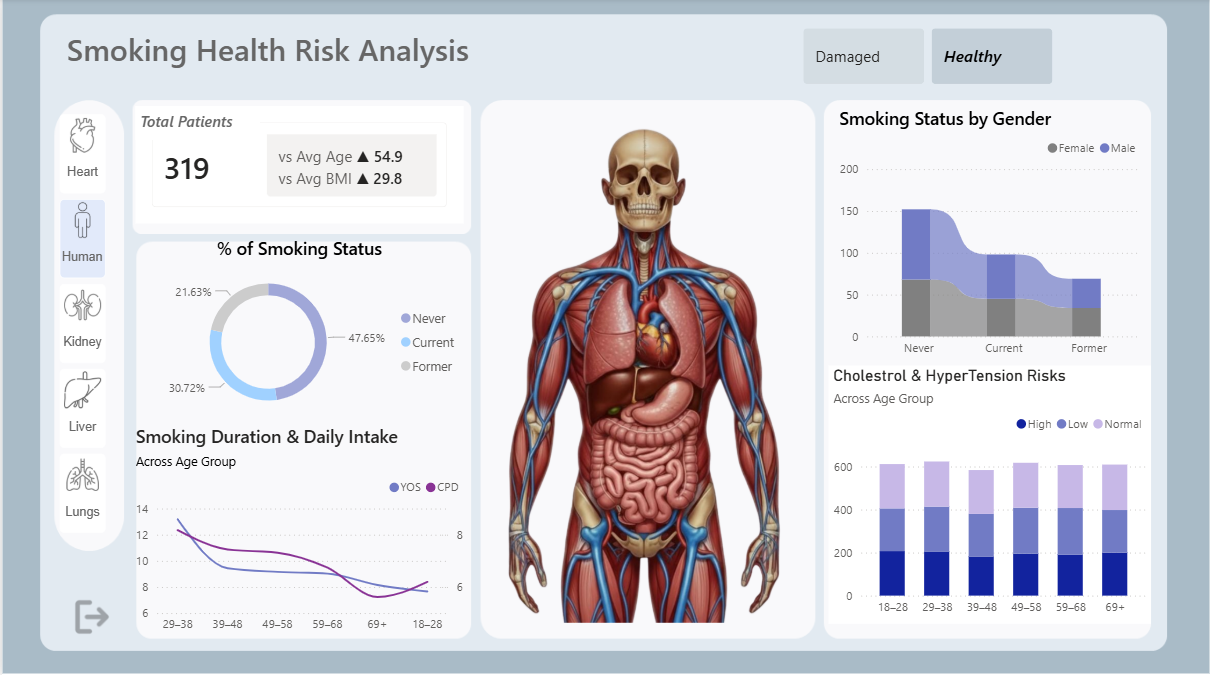

What the dashboard file says about the page in this screenshot:
{"tool":"powerbi","page":{"name":"Page 1","canvas":[1280,720],"ordinal":0},"visuals":[{"type":"cardVisual","fields":{"Data":["CountNonNull(health_dataset.Patient_ID)"]},"box":[141.7,115.3,347.7,124.7],"z":0},{"type":"textbox","box":[141.7,115.3,132.3,35.9],"z":1000},{"type":"advancedSlicerVisual","fields":{"Values":["condition.Organ_Condition"]},"box":[844.7,26.5,275.9,69.9],"z":2000},{"type":"ChicletSlicer1448559807354","fields":{"Category":["Organs.Organ"],"Image":["Organs.Icon_URL"]},"box":[52.9,115.3,88.8,480],"z":3000},{"type":"image","box":[517.8,115.3,326.9,548],"z":4000},{"type":"donutChart","title":"% of Smoking Status","fields":{"Category":["health_dataset.Smoking_Status"],"Y":["CountNonNull(health_dataset.Smoking_Status)"]},"box":[136.1,253.2,357.2,198.4],"z":5000},{"type":"lineChart","title":"Smoking Duration & Daily Intake","fields":{"Category":["health_dataset.Age Group"],"Y":["Avg(health_dataset.Years_of_Smoking)"],"Y2":["Avg(health_dataset.Cigarettes_Per_Day)"]},"box":[136.1,451.7,357.2,230.6],"z":6000},{"type":"ribbonChart","title":"Smoking Status by Gender","fields":{"Category":["health_dataset.Smoking_Status"],"Y":["CountNonNull(health_dataset.Patient_ID)"],"Series":["health_dataset.Gender"]},"box":[882.5,115.3,328.8,274],"z":7000},{"type":"columnChart","title":"Cholestrol & HyperTension Risks","fields":{"Category":["health_dataset.Age Group"],"Y":["Avg(health_dataset.Cholesterol_Level)"],"Series":["health_dataset.BP_Risk"]},"box":[876.9,389.3,342,274],"z":8000},{"type":"textbox","box":[64.3,26.5,500.8,69.9],"z":8001}]}

Visuals, with their boxes in screenshot pixels (x1, y1, x2, y2), scaled from the page's 1280x720 canvas onto the 1210x675 screenshot:
cardVisual - CountNonNull(health_dataset.Patient_ID): x1=134 y1=108 x2=463 y2=225
textbox: x1=134 y1=108 x2=259 y2=142
advancedSlicerVisual - condition.Organ_Condition: x1=799 y1=25 x2=1059 y2=90
ChicletSlicer1448559807354 - Organs.Organ x Organs.Icon_URL: x1=50 y1=108 x2=134 y2=558
image: x1=489 y1=108 x2=799 y2=622
"% of Smoking Status" donutChart: x1=129 y1=237 x2=466 y2=423
"Smoking Duration & Daily Intake" lineChart: x1=129 y1=423 x2=466 y2=640
"Smoking Status by Gender" ribbonChart: x1=834 y1=108 x2=1145 y2=365
"Cholestrol & HyperTension Risks" columnChart: x1=829 y1=365 x2=1152 y2=622
textbox: x1=61 y1=25 x2=534 y2=90
